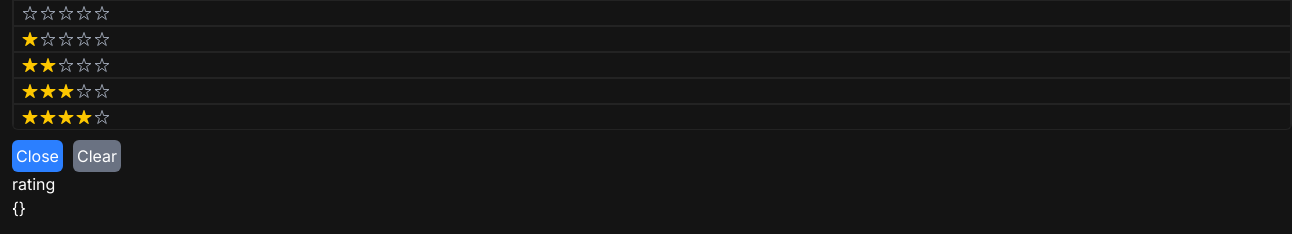
Test: RatingFilter › should close filter
Click the button "Close": click(37, 156) left=12, top=140, right=63, bottom=172
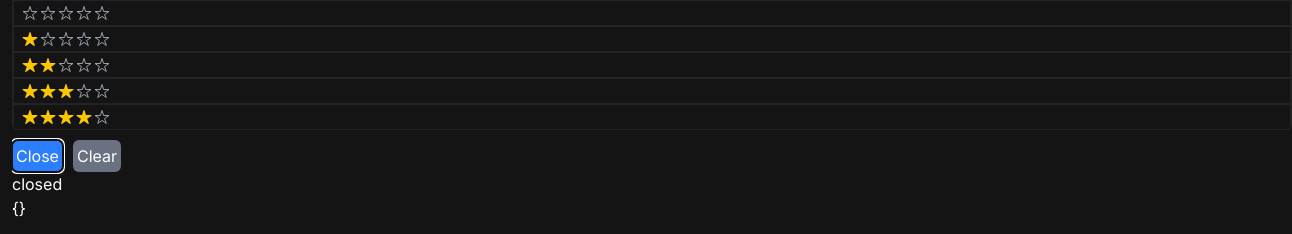
Check: the text with test id "open-filter" reads "closed", box left=12, top=174, right=62, bottom=194
